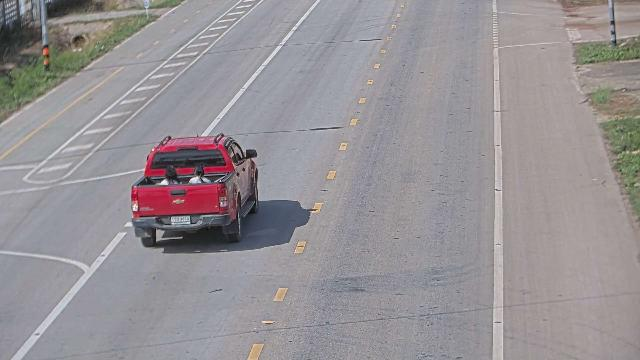pickup-truck: (130, 132, 260, 246)
